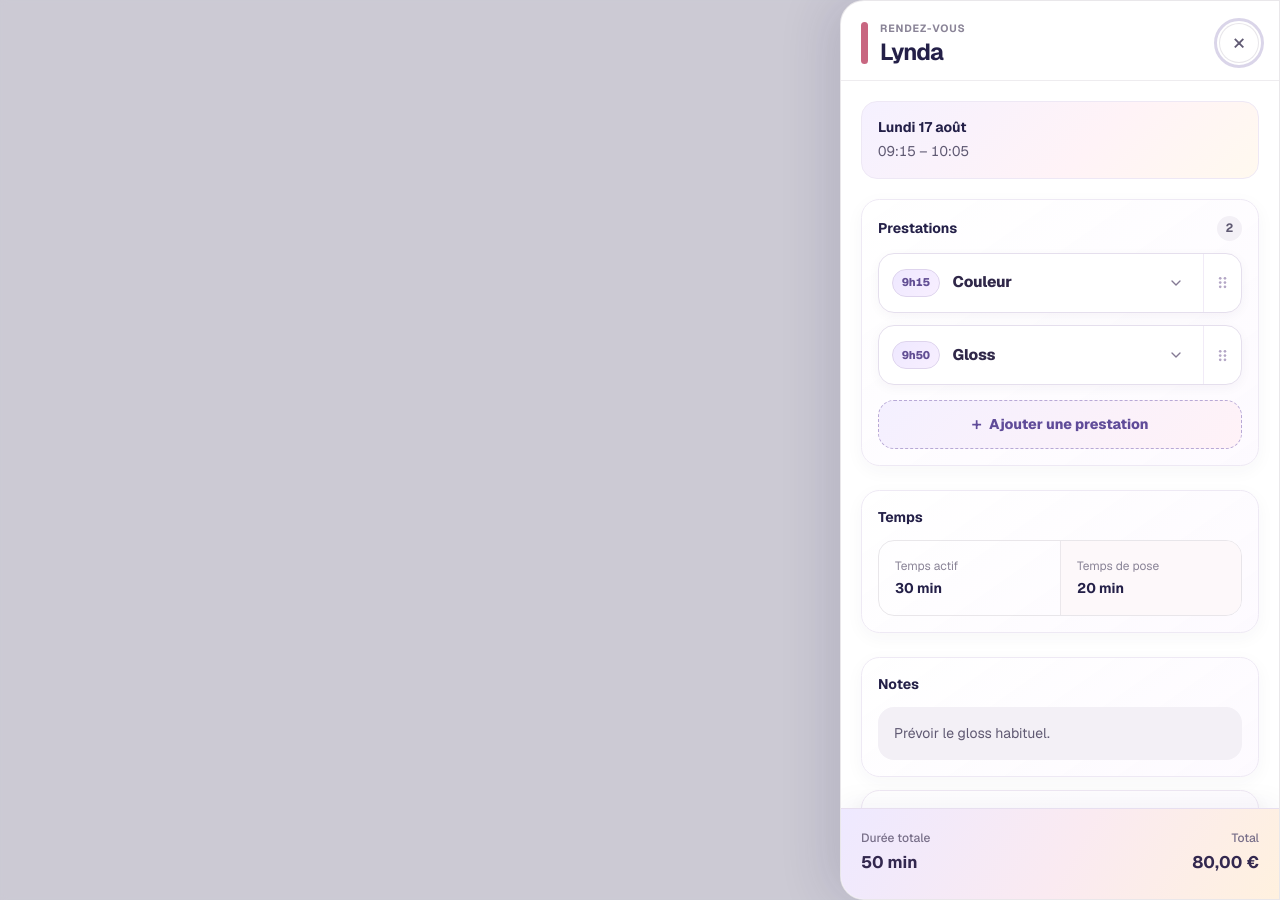
AppointmentDetailsPanel — service drag and drop › keeps the drag handles available while dragging is mocked away
Expected: the button named "Déplacer Couleur" is shown, [1203,254,1241,312]
Click the button with aria-label "Afficher les détails de Couleur" at coordinates (916, 283), box [879,254,1203,312]
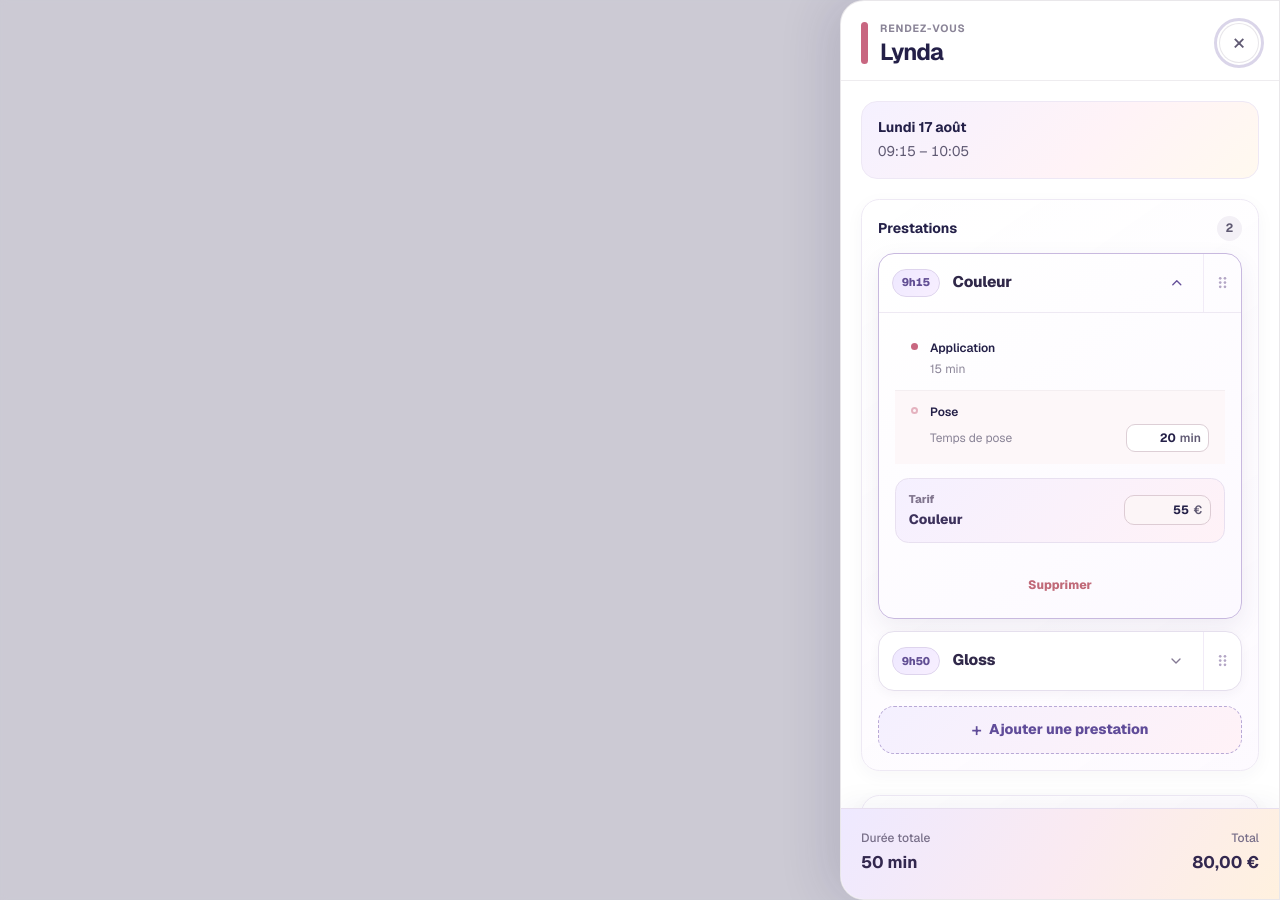
Expected: the text "Application" is shown, [930,340,995,356]
